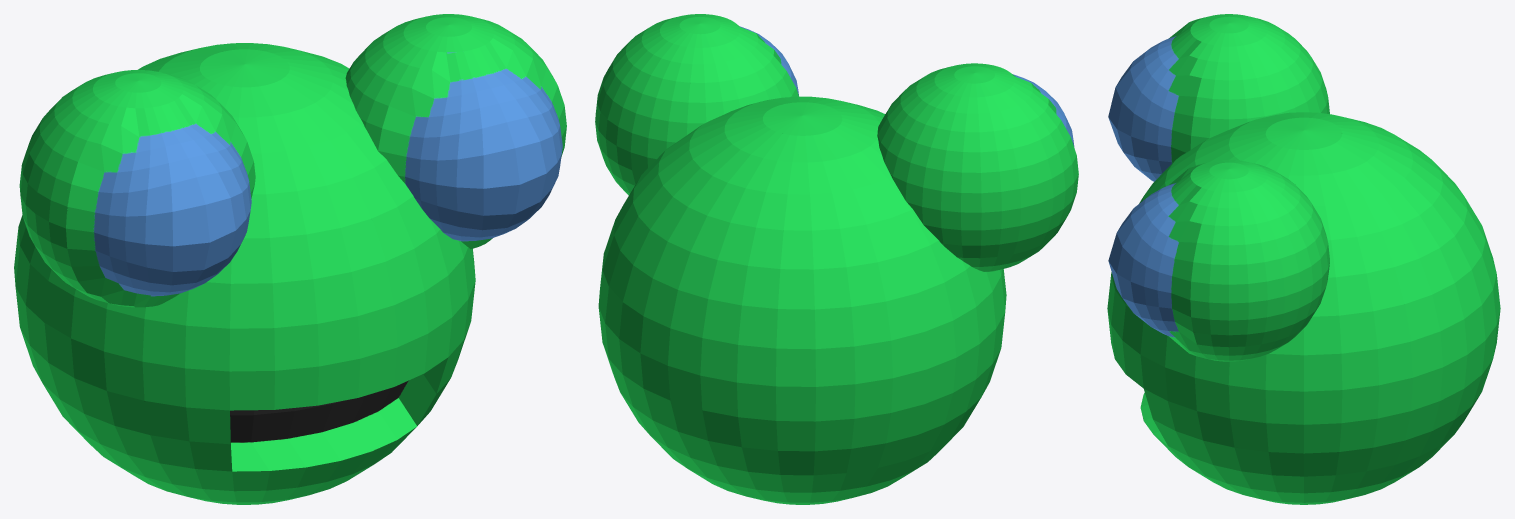
File: Player.fbx
3 views of the same model, side by side, from view 1: azimuth 30°, elevation 25°; view 2: azimuth 150°, elevation 25°; view 3: azimuth 270°, elevation 25° (orthographic). The views are drawn at different scales.
Parts seen in each view (by area): view 1: Sphere.001; view 2: Sphere.001; view 3: Sphere.001.
Part boxes in pixels (<box>): Sphere.001: <box>14,14,566,504</box>; Sphere.001: <box>595,14,1078,504</box>; Sphere.001: <box>1107,14,1500,504</box>.
Size of the model in its own units: 258 by 225 by 200.
Materials: 1 (1 with a texture image).
